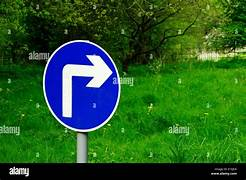right: (43, 40, 119, 132)
